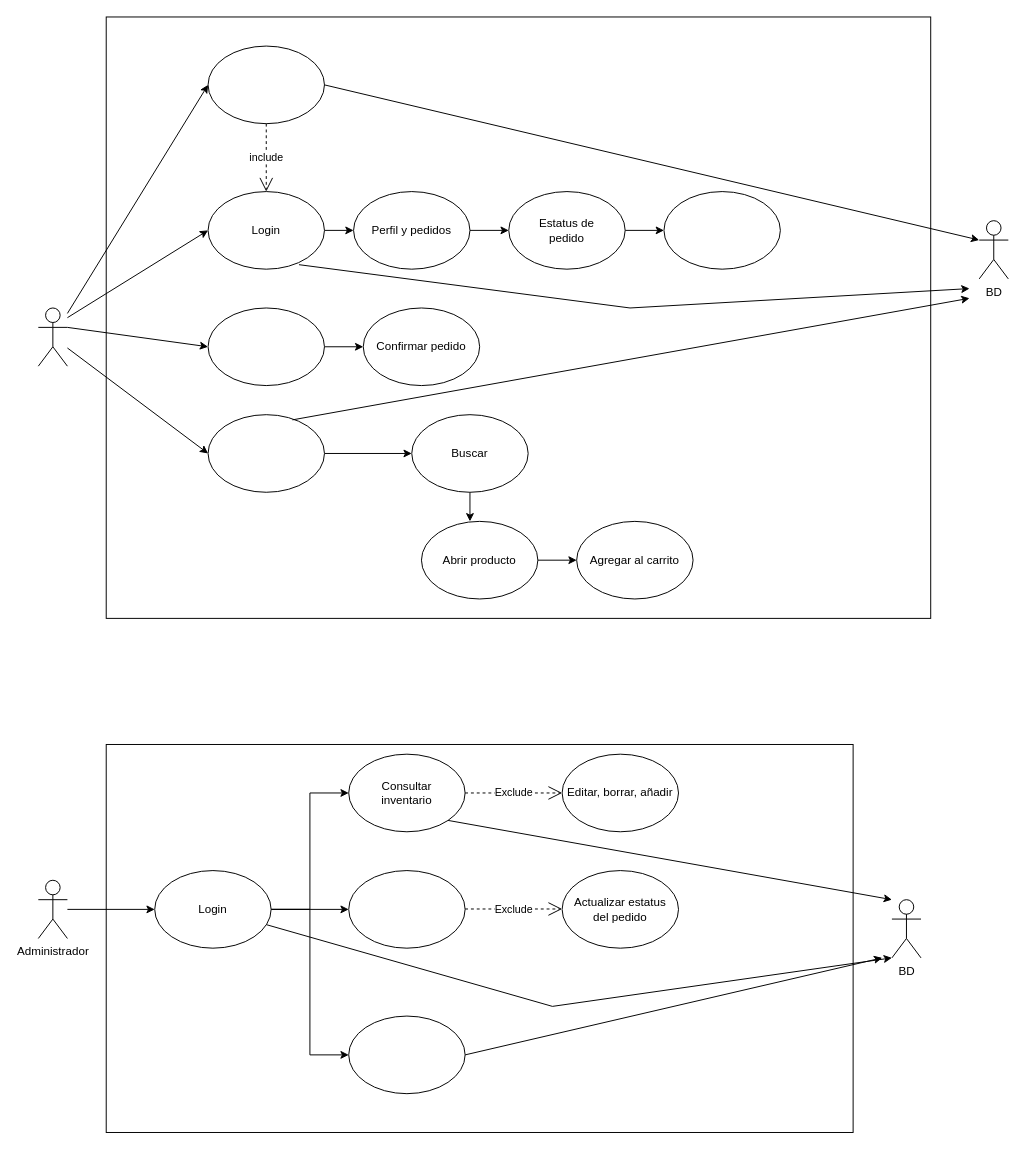
Some shapes in this 1025 by 1149 pixel diagram are drawn without their labels. Each missing label, with the centre of its shape:
Cancelar pedido: the point at 721,230
Cliente: the point at 52,336
Consultar historial de ventas: the point at 406,1054
Consultar pedidos de clientes: the point at 406,909
Registrar usuario: the point at 265,84
Ver carrito: the point at 265,346
Ver productos: the point at 265,453
